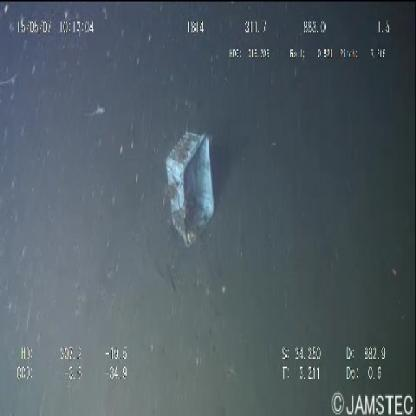Rác: (158, 120, 218, 251)
